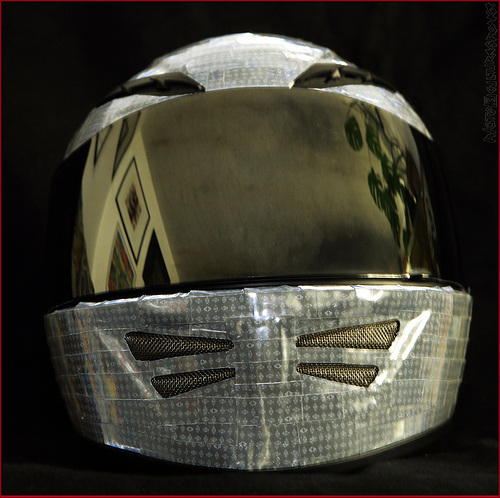helmet: (28, 36, 479, 459)
